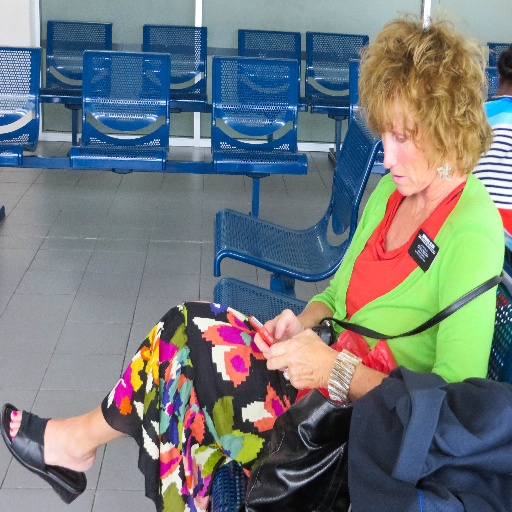hand: (263, 327, 332, 391), (253, 308, 304, 351)
